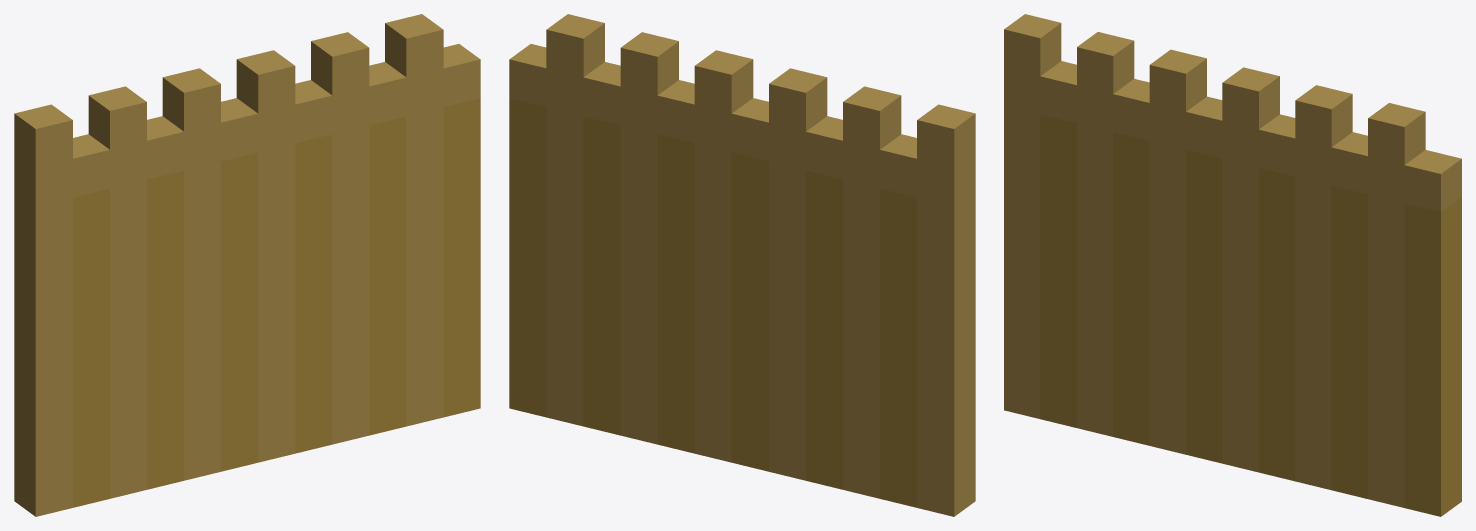
File: Barrierwall.fbx
The picture shows the model from 3 angles, left to right: view 1: azimuth 30°, elevation 25°; view 2: azimuth 150°, elevation 25°; view 3: azimuth 330°, elevation 25°; orthographic projection.
Parts seen in each view (by area): view 1: Barrierwall:model_Barrierwall_obj; view 2: Barrierwall:model_Barrierwall_obj; view 3: Barrierwall:model_Barrierwall_obj.
Boxes of the visible parts, box(x1,y1,x2,y2) form: Barrierwall:model_Barrierwall_obj: box(14, 14, 480, 516); Barrierwall:model_Barrierwall_obj: box(509, 14, 975, 516); Barrierwall:model_Barrierwall_obj: box(1004, 14, 1461, 516).
Bounding box in the file's own units: 12 × 10 × 1.
